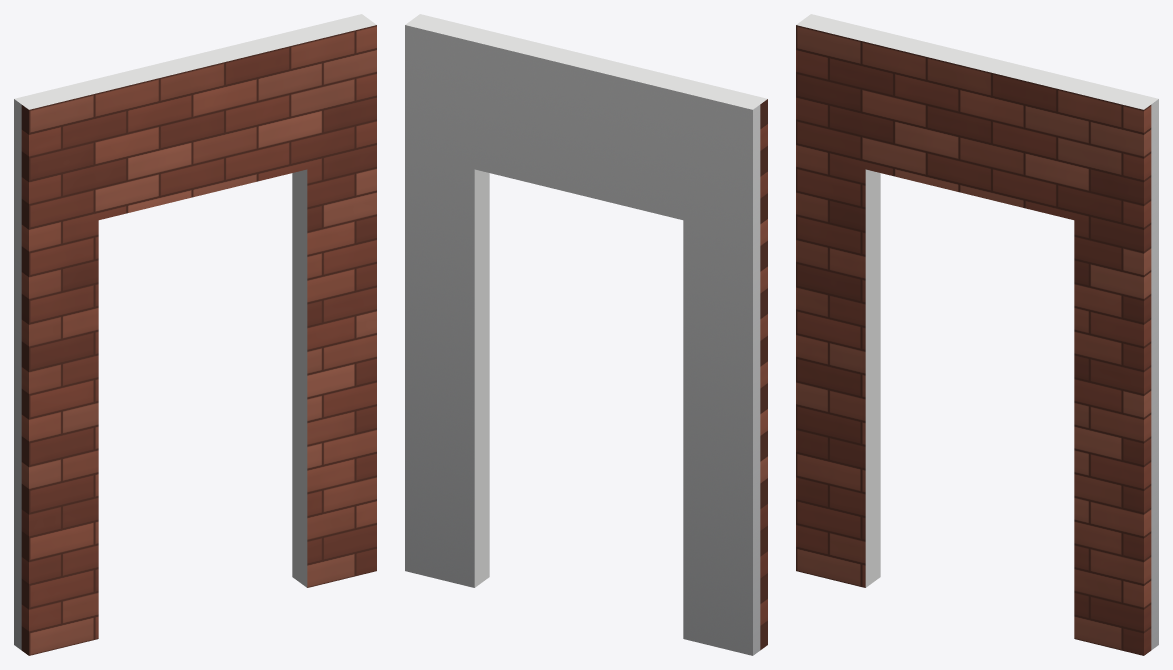
The model's file is passagem_2m.glb.
3 renders of one model, left to right at view 1: azimuth 30°, elevation 25°; view 2: azimuth 150°, elevation 25°; view 3: azimuth 330°, elevation 25°, orthographic.
Parts seen in each view (by area): view 1: passagem_2m; view 2: passagem_2m; view 3: passagem_2m.
Part boxes in pixels (x1,y1,x2,y2): passagem_2m: (14,14,376,655); passagem_2m: (405,14,767,655); passagem_2m: (796,14,1158,655).
Size of the model in its own units: 2 by 3 by 0.15.
3 materials, 2 textured.
